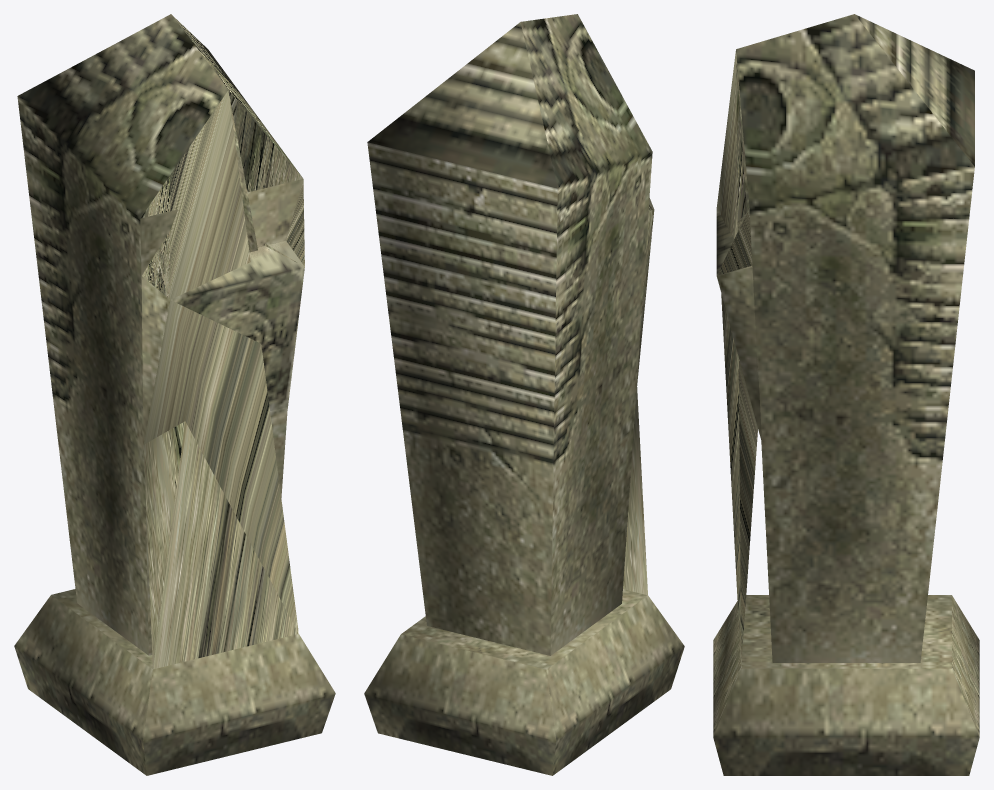
File: stst1.dae
3 renders of one model, left to right at view 1: azimuth 30°, elevation 25°; view 2: azimuth 150°, elevation 25°; view 3: azimuth 270°, elevation 25°, orthographic. The views are drawn at different scales.
Visible parts, largest first — view 1: bird, wings; view 2: bird, wings; view 3: bird, wings.
Part boxes in pixels (<box>): bird: <box>14,14,335,775</box>; wings: <box>142,90,304,669</box>; bird: <box>364,14,684,775</box>; wings: <box>623,198,654,595</box>; bird: <box>713,14,979,775</box>; wings: <box>716,51,762,667</box>.
Bounding box in the file's own units: 0.9042 × 1.05 × 3.11.
1 material, 1 textured.
